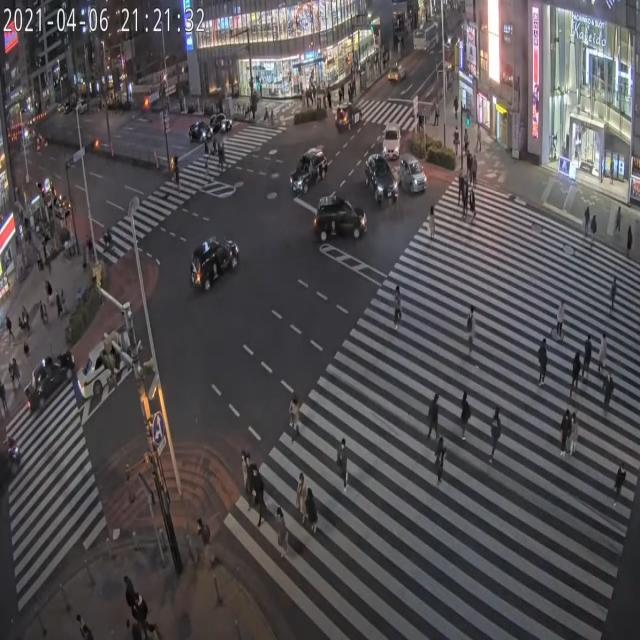humans: (192, 509, 217, 574), (487, 398, 506, 474), (600, 366, 624, 424), (250, 464, 269, 532), (459, 299, 479, 355), (389, 280, 407, 342), (433, 435, 452, 489), (274, 498, 290, 560), (612, 450, 628, 510), (534, 333, 550, 389), (456, 385, 472, 440), (336, 434, 350, 491), (425, 384, 439, 440), (555, 293, 567, 357), (581, 321, 593, 385), (570, 404, 583, 463), (290, 389, 303, 444), (425, 200, 438, 254), (304, 488, 320, 529), (294, 473, 307, 518), (571, 347, 582, 400), (246, 446, 253, 506), (599, 322, 606, 382), (462, 179, 471, 224), (562, 407, 570, 456), (469, 188, 476, 235), (625, 224, 634, 260), (590, 213, 598, 253), (608, 275, 616, 312), (241, 445, 246, 504), (457, 170, 463, 210), (584, 206, 590, 242)
